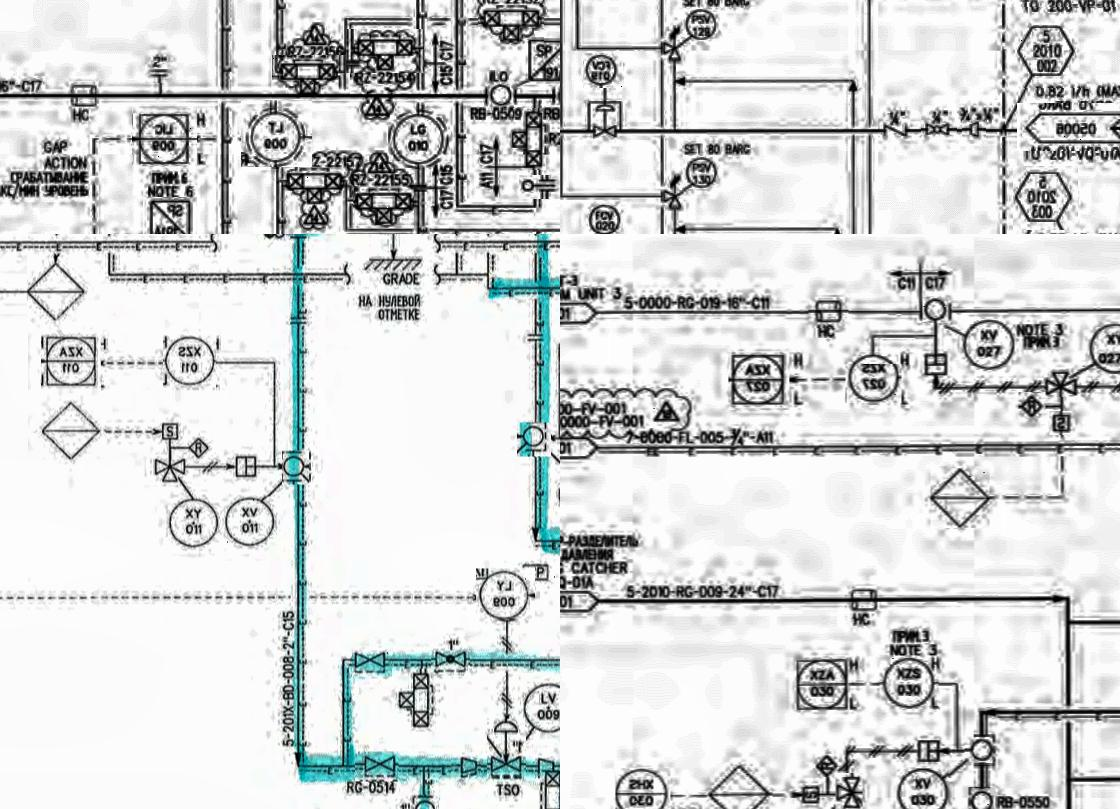2 WAY VALVE: (272, 55, 350, 99), (346, 29, 424, 73), (279, 163, 353, 209), (478, 4, 544, 49), (396, 668, 439, 736), (355, 188, 416, 229), (514, 108, 548, 170), (539, 769, 560, 809)
3 WAY GENERAL VALVE: (148, 456, 193, 485), (1042, 368, 1085, 397), (835, 774, 863, 809)
ANGLE RELIEF VALVE: (660, 170, 685, 219), (661, 26, 686, 70)
BLIND SPADE OPEN: (519, 175, 560, 199)
CONCENTRIC REDUCER: (451, 750, 481, 784), (535, 752, 556, 778)
CONNECTOR: (963, 121, 987, 143)
DCS ACCESSIBLE: (787, 652, 854, 714), (41, 330, 101, 396), (728, 348, 790, 411), (132, 108, 197, 166), (615, 769, 670, 809)
DIAPHRAGM ACTUATED VALVE: (487, 719, 526, 778), (590, 103, 623, 142)
DUPLEX RECEPTACLE: (808, 296, 848, 329), (845, 585, 883, 619), (68, 80, 102, 108)
END FLANGED: (145, 63, 174, 84)
FIELD INSTRUMENT: (241, 101, 312, 169), (381, 111, 456, 170), (879, 656, 938, 712), (476, 569, 535, 620), (222, 497, 276, 551), (163, 336, 216, 389), (168, 498, 219, 546), (845, 365, 901, 405), (897, 766, 949, 809), (519, 681, 560, 732), (583, 54, 623, 90), (586, 198, 626, 234), (518, 423, 552, 458), (685, 156, 718, 192), (684, 9, 719, 42), (964, 735, 997, 765), (283, 450, 311, 485), (488, 81, 514, 110), (922, 298, 948, 325), (968, 787, 997, 809), (410, 794, 439, 809)
GATE VALVE: (356, 752, 400, 783), (352, 647, 392, 676)
GLOBE VALVE: (432, 646, 470, 674)
HARDWIRED INTERLOCK FIELD: (814, 750, 841, 777), (1018, 392, 1046, 418)
HARDWIRED INTERLOCK PRIMARY.: (36, 401, 106, 466), (25, 256, 87, 324), (931, 466, 991, 529), (707, 763, 772, 809), (188, 437, 212, 458)
IP CONVERTER: (514, 558, 555, 586)
NO ACCESS INDICATOR: (1016, 21, 1083, 88), (1013, 167, 1078, 232)
PIPE CONNECTION FLAG: (1017, 104, 1120, 153)
PLUG VALVE: (922, 116, 958, 146)
REVISION TRIANGLE: (302, 201, 329, 234), (651, 398, 681, 426)
SPECIAL PIPING ITEM: (143, 197, 198, 234)
SPECTACLE BLIND OPEN: (256, 234, 317, 246)
SPEED FLOW METER: (154, 417, 180, 443), (794, 784, 822, 806), (1050, 411, 1074, 435)
